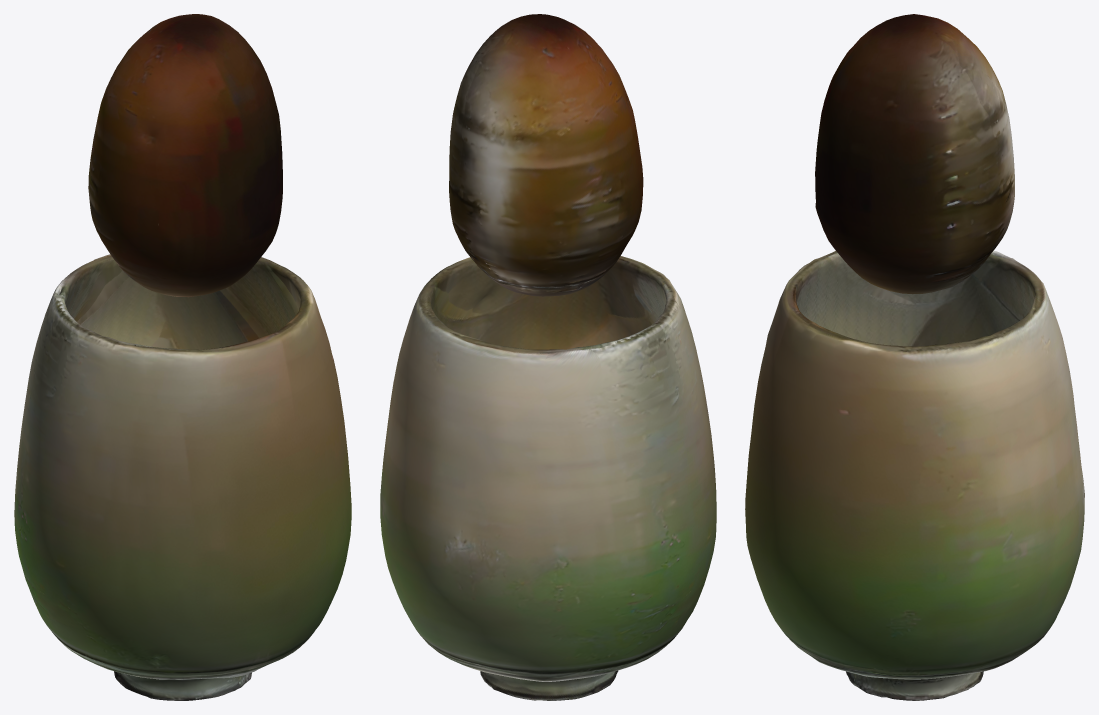
The model's file is splashing_water_textured_frame_000000.glb.
3 views of the same model, side by side, from view 1: azimuth 30°, elevation 25°; view 2: azimuth 150°, elevation 25°; view 3: azimuth 270°, elevation 25° (orthographic).
Parts seen in each view (by area): view 1: geometry_0; view 2: geometry_0; view 3: geometry_0.
Boxes of the visible parts, x1,y1,x2,y2 form: geometry_0: (14, 14, 351, 700); geometry_0: (380, 14, 716, 700); geometry_0: (745, 14, 1084, 700).
Size of the model in its own units: 0.8797 by 1.88 by 0.8788.
1 material, 1 textured.
